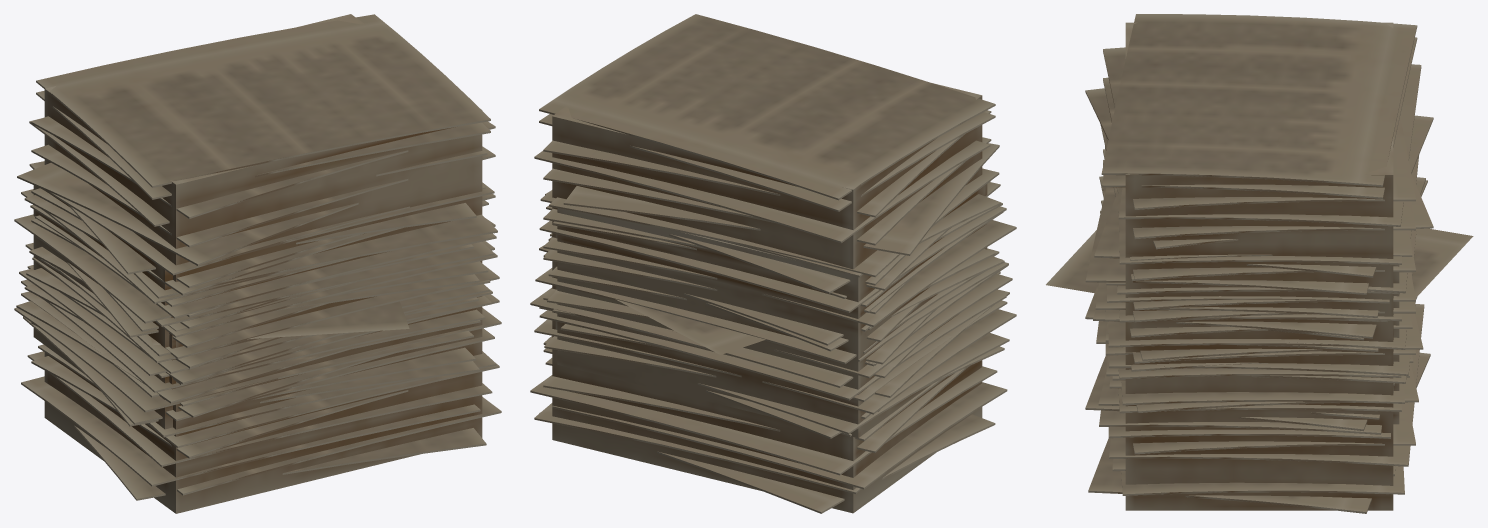
The model's file is DocumentSheets.fbx.
3 renders of one model, left to right at view 1: azimuth 30°, elevation 25°; view 2: azimuth 150°, elevation 25°; view 3: azimuth 270°, elevation 25°, orthographic. The views are drawn at different scales.
Visible parts, largest first — view 1: Document_Pile_1, Document_Pile_3, Document_Pile_2, Document_Sheet; view 2: Document_Pile_1, Document_Pile_3, Document_Pile_2, Document_Sheet; view 3: Document_Pile_1, Document_Pile_3, Document_Pile_2, Document_Sheet.
Boxes of the visible parts, x1,y1,x2,y2 form: Document_Pile_1: (17,14,501,513); Document_Pile_3: (14,161,494,429); Document_Pile_2: (16,205,499,403); Document_Sheet: (150,301,409,345); Document_Pile_1: (530,14,1009,513); Document_Pile_3: (539,168,1016,438); Document_Pile_2: (535,212,1012,397); Document_Sheet: (615,299,765,354); Document_Pile_1: (1085,14,1433,513); Document_Pile_3: (1085,115,1433,431); Document_Pile_2: (1095,146,1423,392); Document_Sheet: (1046,228,1473,297).
Size of the model in its own units: 0.8441 by 0.7159 by 0.8184.
